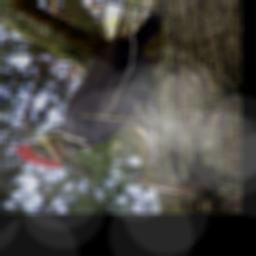Woodpecker: (3, 1, 179, 178)
